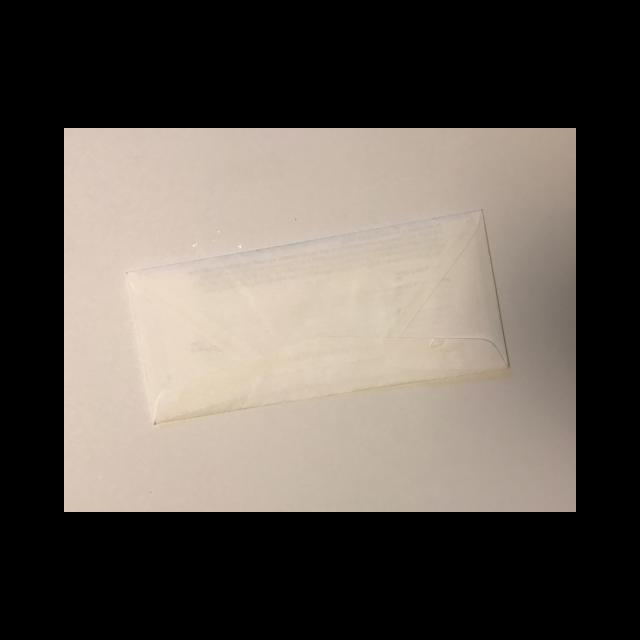paper: (125, 208, 508, 424)
